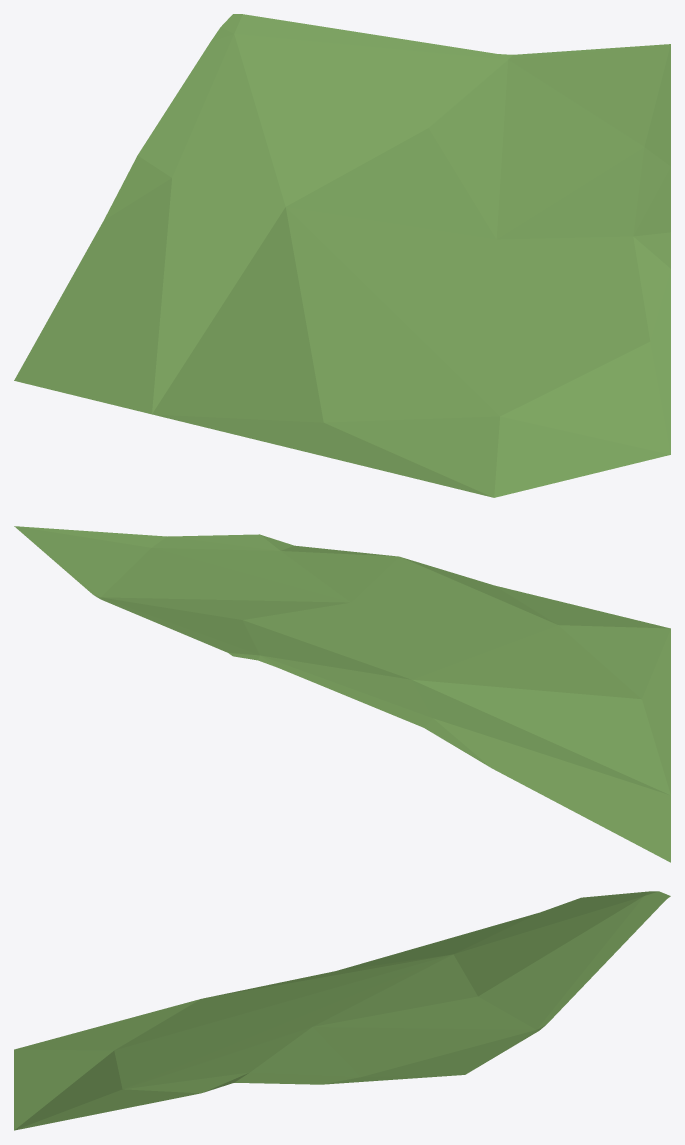
File: BridgeEdge.L.D0.1.R.A1.1.fbx
3 renders of one model, top to bottom at view 1: azimuth 30°, elevation 25°; view 2: azimuth 150°, elevation 25°; view 3: azimuth 270°, elevation 25°, orthographic. The views are drawn at different scales.
Parts seen in each view (by area): view 1: Bridge_L_D0_1_R_A1_1; view 2: Bridge_L_D0_1_R_A1_1; view 3: Bridge_L_D0_1_R_A1_1.
Part boxes in pixels (x1,y1,x2,y2): Bridge_L_D0_1_R_A1_1: [14, 14, 670, 497]; Bridge_L_D0_1_R_A1_1: [14, 526, 670, 862]; Bridge_L_D0_1_R_A1_1: [14, 891, 670, 1130].
Bounding box in the file's own units: 0.417 × 0.3844 × 0.1252.
